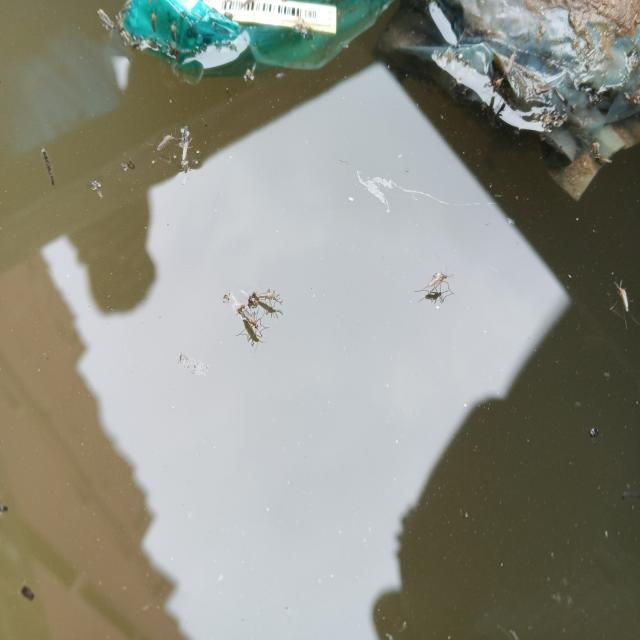Breeding Place: (0, 0, 640, 640)
Mosquito: (590, 267, 640, 336), (411, 264, 464, 316), (228, 300, 270, 350), (144, 133, 196, 173), (254, 284, 292, 324)
